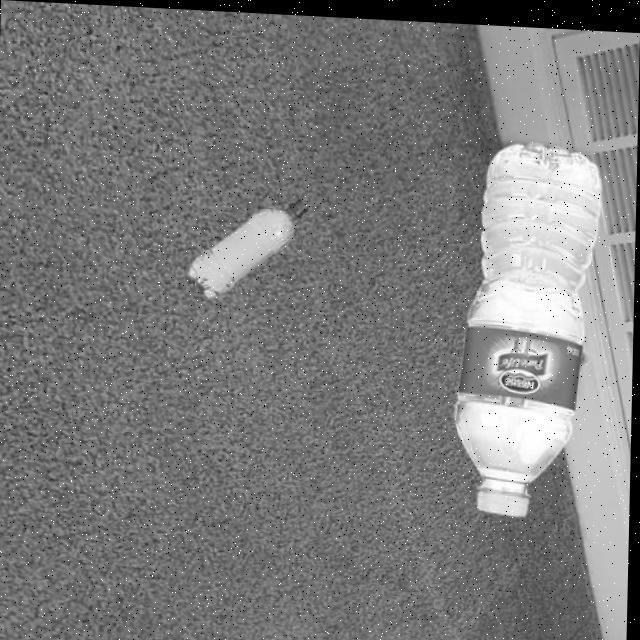bottle: (453, 133, 606, 515), (187, 189, 310, 300)
